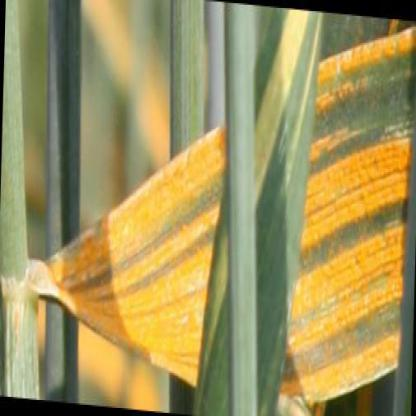Wheat-Yellow-rust: (174, 265, 198, 373), (325, 262, 348, 332), (302, 271, 323, 344), (370, 233, 388, 302), (350, 240, 366, 312), (389, 227, 403, 293), (316, 176, 331, 236), (134, 194, 149, 249), (154, 282, 164, 361), (384, 140, 396, 204), (152, 180, 167, 229), (118, 206, 132, 258), (346, 154, 357, 217), (169, 160, 180, 222), (86, 234, 102, 276), (373, 145, 384, 206), (359, 150, 370, 210), (142, 288, 152, 353), (333, 164, 344, 223), (166, 274, 173, 366), (289, 283, 299, 346), (399, 139, 410, 196), (182, 152, 193, 208), (66, 248, 83, 284), (306, 180, 315, 243), (50, 257, 65, 294), (132, 290, 141, 350), (202, 139, 214, 182), (104, 218, 116, 261), (194, 139, 202, 194), (215, 126, 226, 166), (29, 271, 50, 291), (355, 350, 373, 372), (123, 294, 131, 340), (113, 299, 121, 341), (313, 374, 328, 396), (282, 376, 300, 394), (344, 357, 355, 386), (77, 295, 91, 317), (376, 343, 388, 368), (328, 61, 340, 86), (331, 366, 342, 392), (92, 302, 102, 330), (302, 373, 312, 400), (103, 299, 110, 337), (156, 244, 170, 262), (316, 65, 327, 86), (340, 51, 350, 73), (192, 215, 205, 231), (179, 230, 192, 246), (404, 30, 416, 47), (369, 41, 378, 63), (122, 268, 133, 284), (200, 268, 208, 290), (169, 235, 178, 254), (203, 245, 212, 264), (206, 205, 216, 222), (145, 251, 155, 268), (107, 278, 119, 292), (392, 338, 401, 356), (379, 39, 390, 53), (351, 46, 359, 65), (133, 261, 143, 276), (317, 94, 325, 112), (361, 45, 368, 64), (66, 292, 77, 304), (391, 37, 402, 49), (198, 294, 204, 314), (316, 140, 322, 160), (342, 85, 349, 102), (339, 131, 349, 141), (330, 134, 337, 148), (322, 140, 329, 154), (94, 288, 106, 296), (326, 94, 334, 106), (311, 144, 316, 160), (336, 92, 340, 104), (350, 128, 356, 135), (350, 84, 352, 97)
